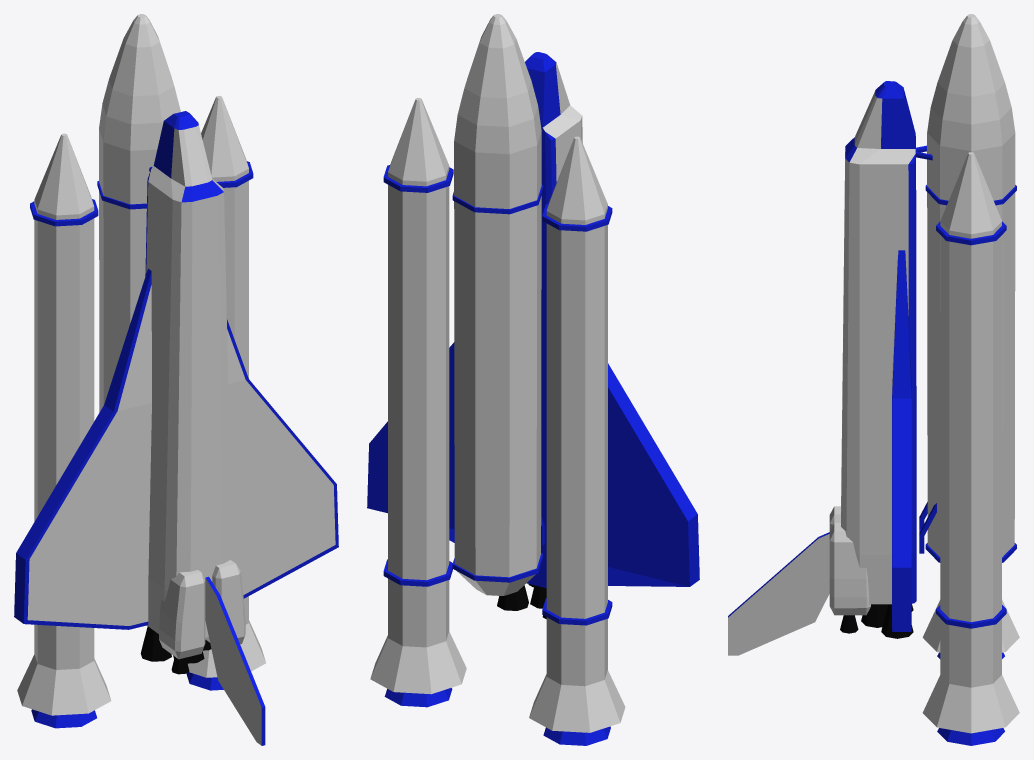
File: Shuttle Blue .fbx
3 views of the same model, side by side, from view 1: azimuth 30°, elevation 25°; view 2: azimuth 150°, elevation 25°; view 3: azimuth 270°, elevation 25° (orthographic). The views are drawn at different scales.
Parts seen in each view (by area): view 1: Shuttle Blue; view 2: Shuttle Blue; view 3: Shuttle Blue.
Boxes of the visible parts, x1,y1,x2,y2 form: Shuttle Blue: [14, 14, 338, 745]; Shuttle Blue: [367, 14, 699, 745]; Shuttle Blue: [728, 14, 1019, 745].
Bounding box in the file's own units: 353 × 727 × 284.
